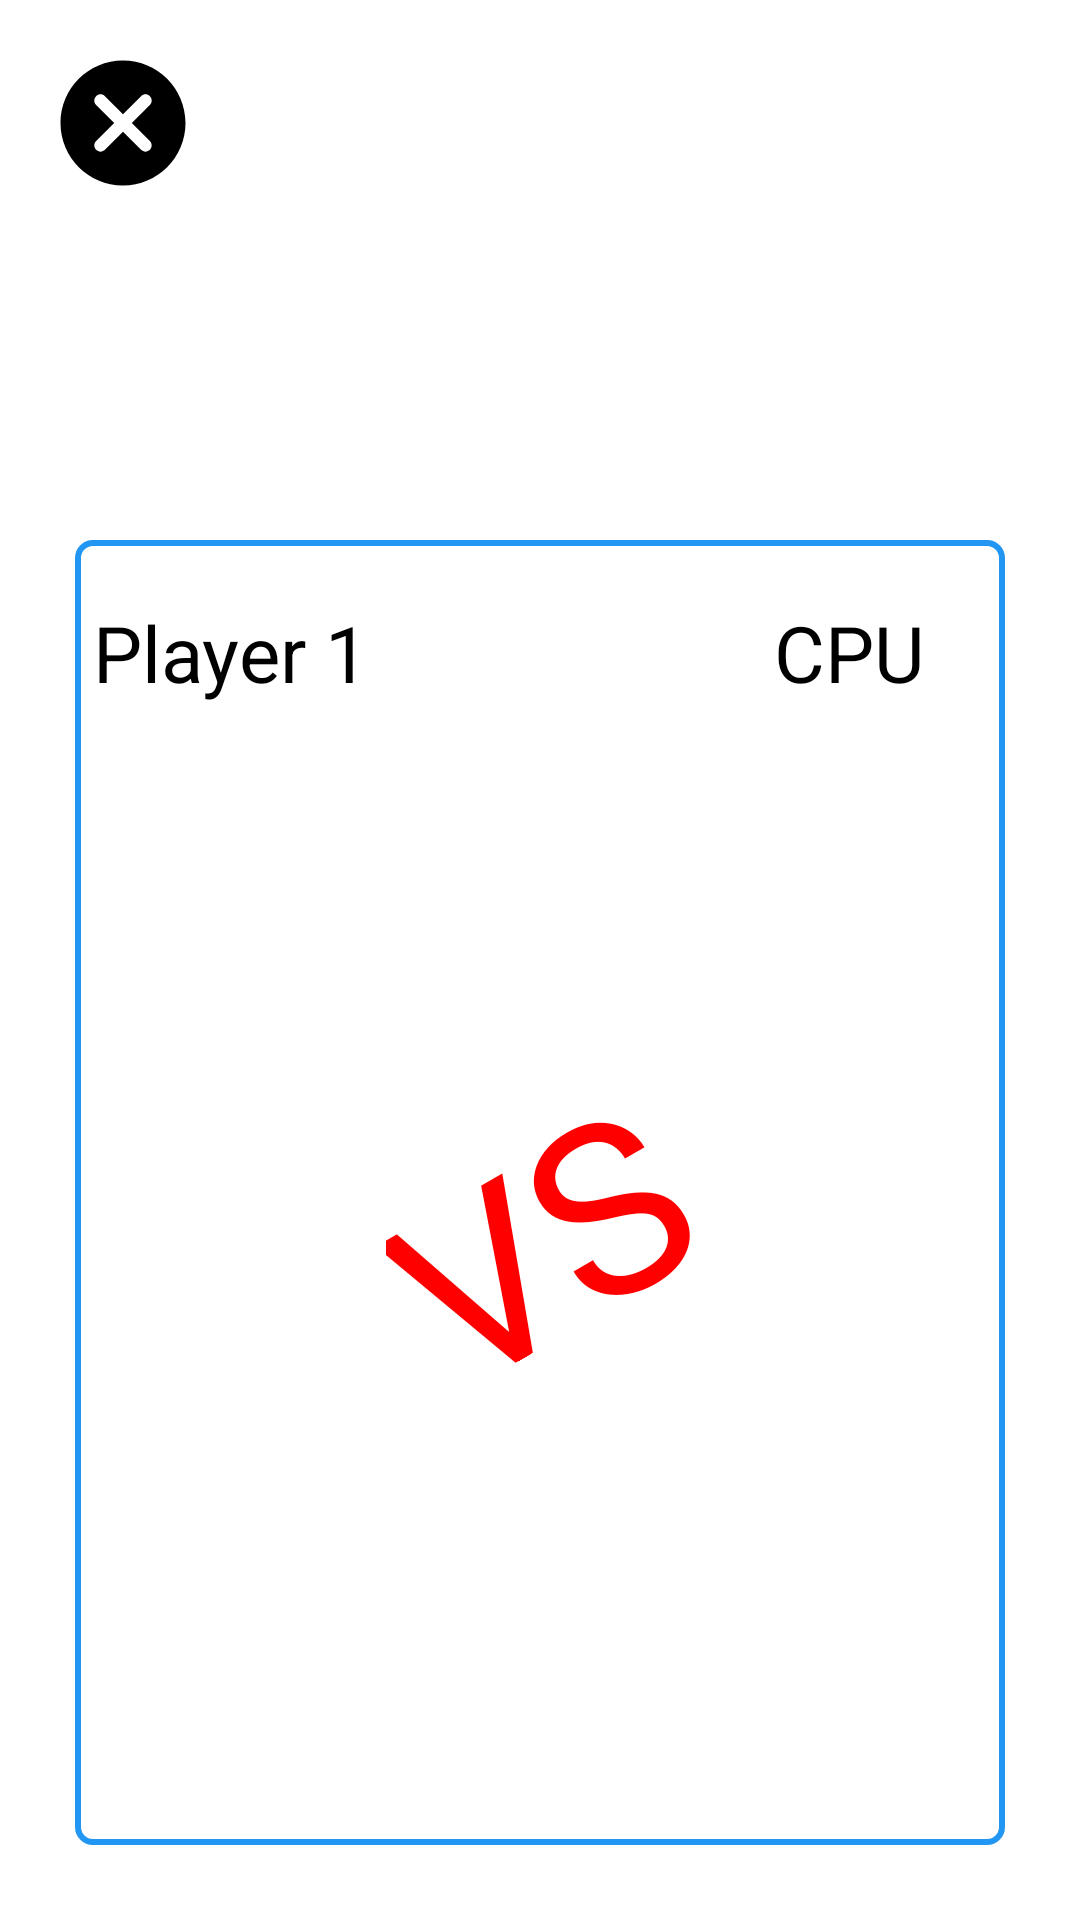

Icons on this 1080 x 1920 Android screen, each with the point to tap as [x,y]:
close: [123,123]
